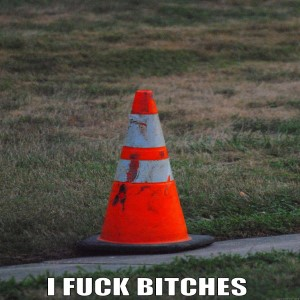traffic cone: (78, 90, 215, 254)
